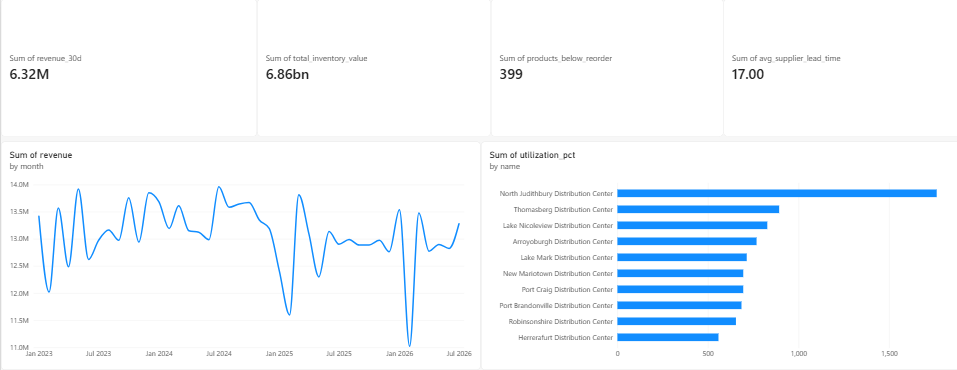

This screenshot's page, from the dashboard's own definition file:
{"tool":"powerbi","page":{"name":"Executive Overview","canvas":[1920,1080],"ordinal":0},"visuals":[{"type":"cardVisual","fields":{"Data":["Sum(mv_dashboard_kpis.revenue_30d)"]},"box":[0,0,512.5,275.8],"z":0},{"type":"cardVisual","fields":{"Data":["Sum(mv_dashboard_kpis.total_inventory_value)"]},"box":[512.5,0,467.2,275.8],"z":1},{"type":"cardVisual","fields":{"Data":["Sum(mv_dashboard_kpis.products_below_reorder)"]},"box":[979.8,0,465.2,275.8],"z":2},{"type":"cardVisual","fields":{"Data":["Sum(mv_dashboard_kpis.avg_supplier_lead_time)"]},"box":[1444.9,0,475.5,275.8],"z":3},{"type":"lineChart","fields":{"Category":["mv_monthly_sales.month"],"Y":["Sum(mv_monthly_sales.revenue)"]},"box":[0,286.1,959.2,456.9],"z":4},{"type":"clusteredBarChart","fields":{"Category":["mv_warehouse_summary.name"],"Y":["Sum(mv_warehouse_summary.utilization_pct)"]},"box":[961.2,286.1,959.2,456.9],"z":5}]}

Visuals, with their boxes on the page's 1920x1080 design canvas (x1, y1, x2, y2). These are canvas units, not pixel positions in the 957x370 screenshot, which may show the page scaled, cropped or inside an application window:
cardVisual - Sum(mv_dashboard_kpis.revenue_30d): crop(0, 0, 512, 276)
cardVisual - Sum(mv_dashboard_kpis.total_inventory_value): crop(512, 0, 980, 276)
cardVisual - Sum(mv_dashboard_kpis.products_below_reorder): crop(980, 0, 1445, 276)
cardVisual - Sum(mv_dashboard_kpis.avg_supplier_lead_time): crop(1445, 0, 1920, 276)
lineChart - mv_monthly_sales.month x Sum(mv_monthly_sales.revenue): crop(0, 286, 959, 743)
clusteredBarChart - mv_warehouse_summary.name x Sum(mv_warehouse_summary.utilization_pct): crop(961, 286, 1920, 743)
